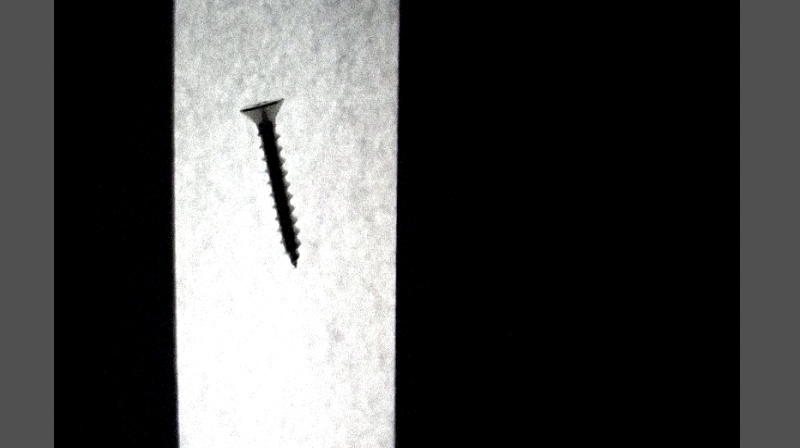S001: (235, 95, 302, 272)
